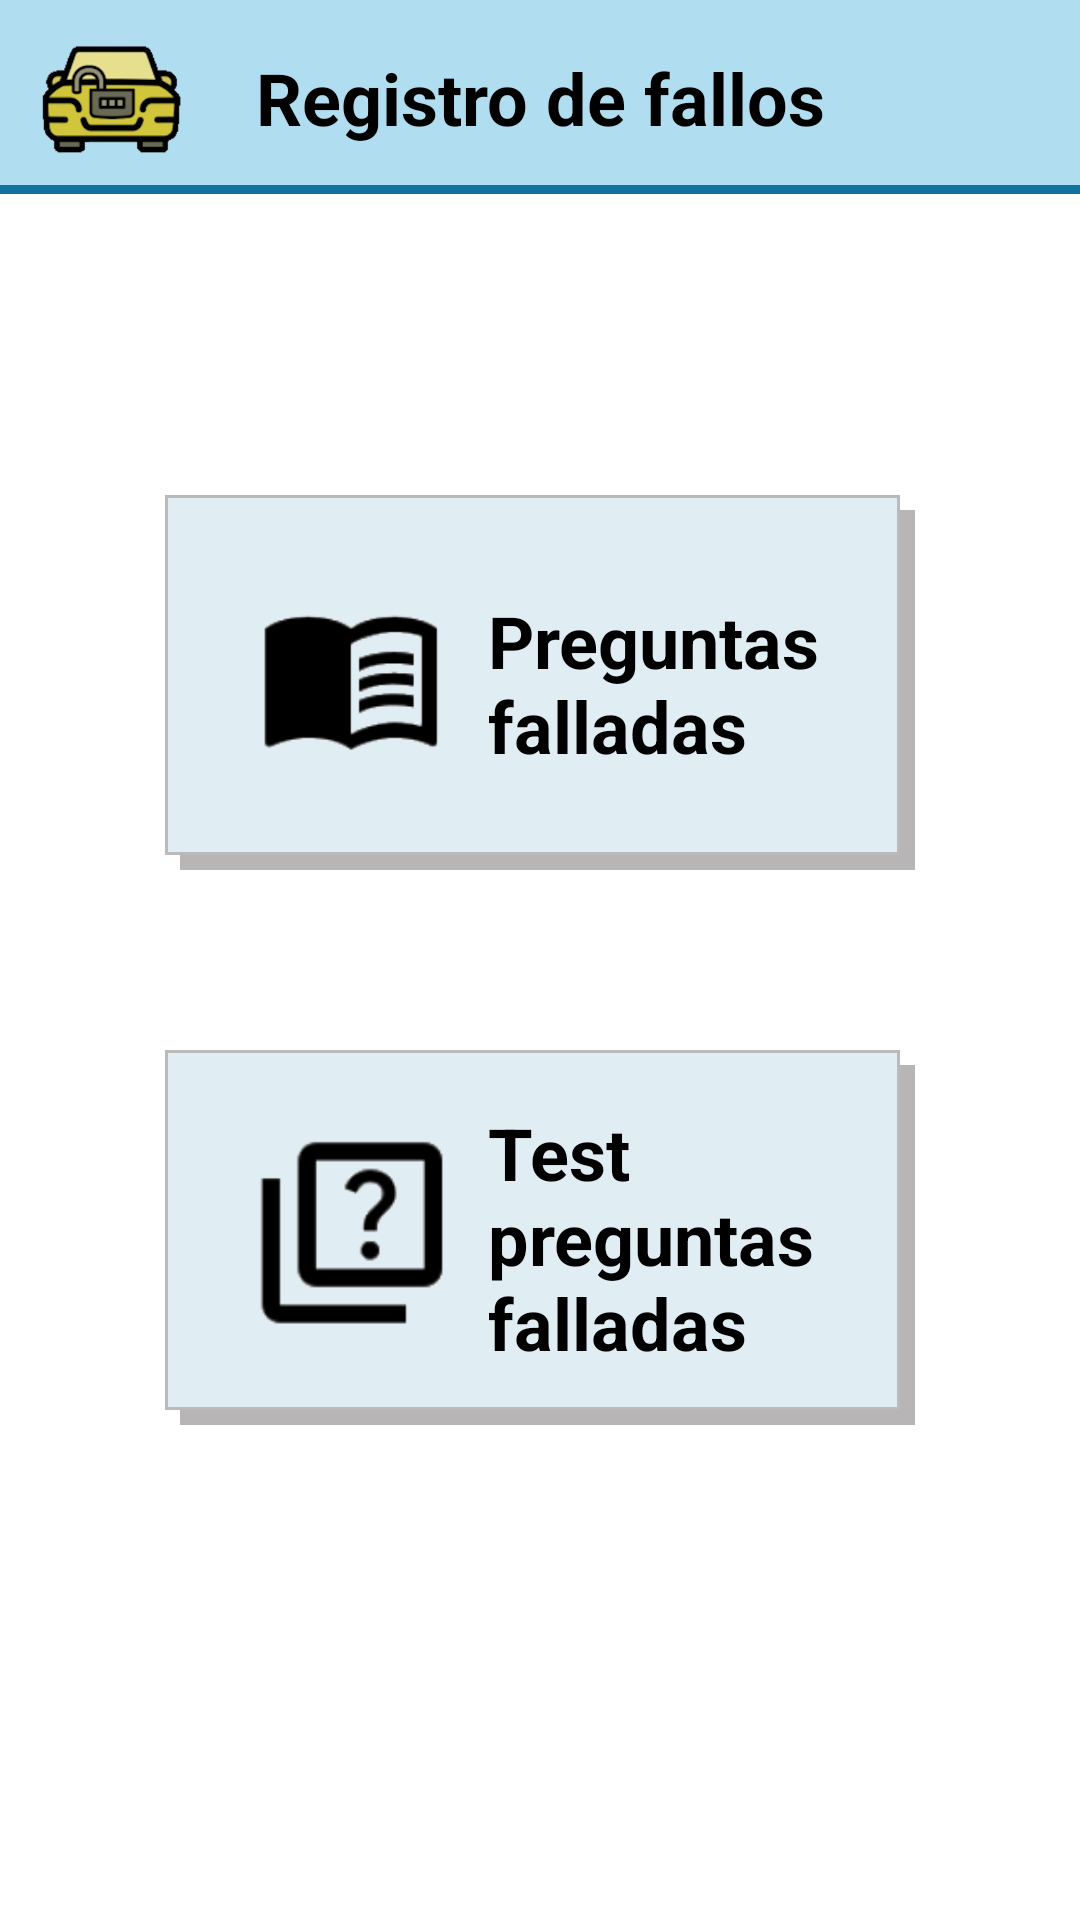

Point at icon controls on the screen. Image size 1080px x 1920px, points as point (x, y).
temario: point (351, 683)
tests: point (351, 1232)
